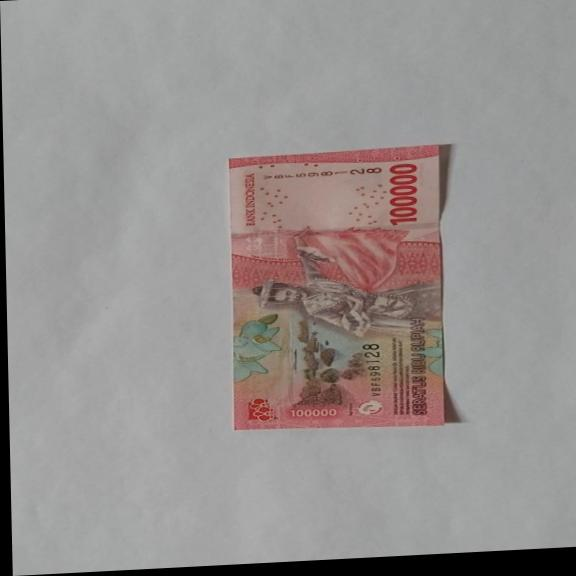Kertas: (225, 143, 452, 437), (385, 161, 420, 226)
